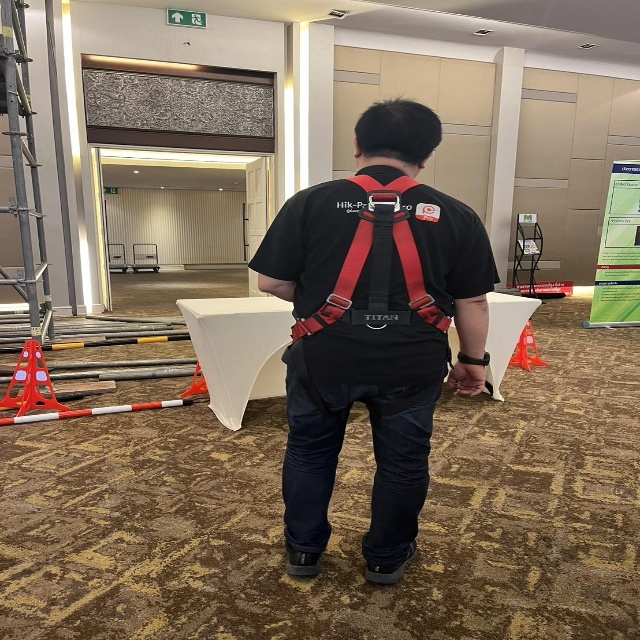Arnes_seguridad: (285, 169, 464, 358)
